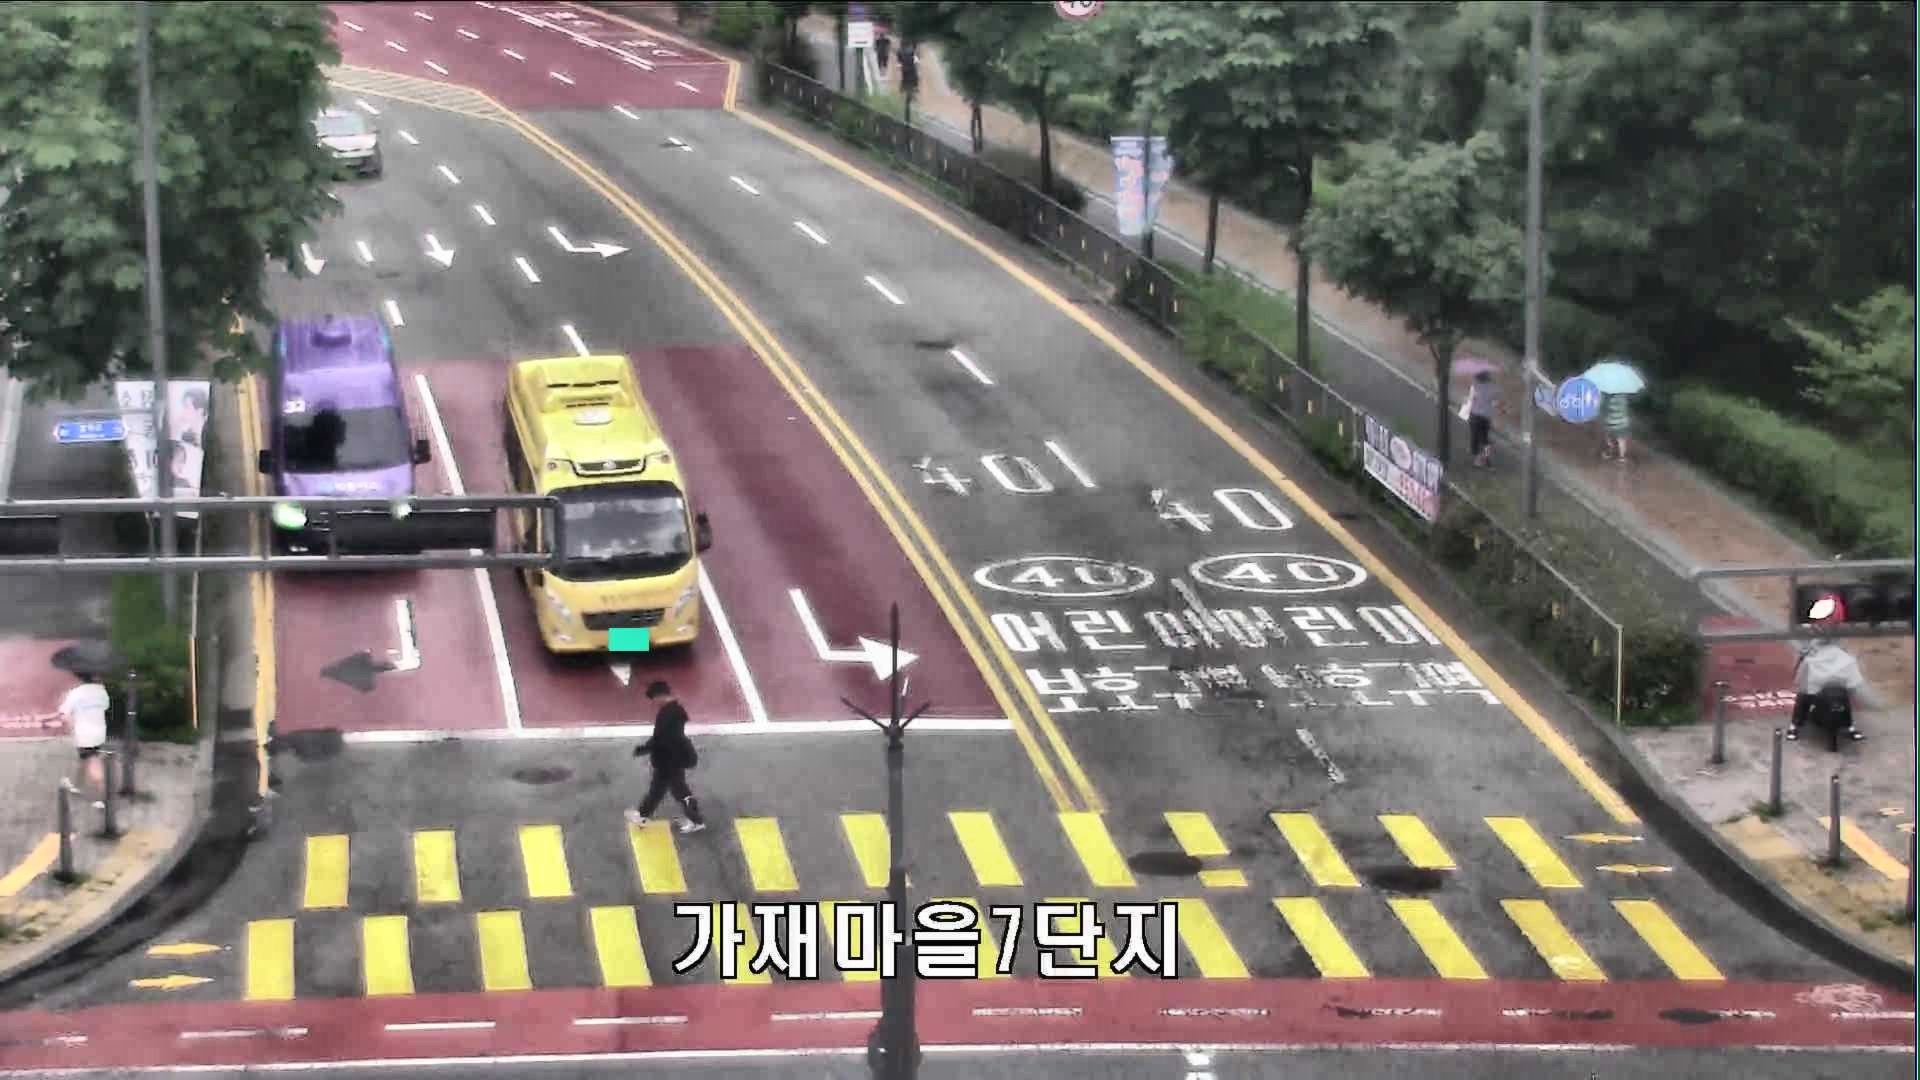crosswalk: (622, 680, 709, 836)
um_sidewalk: (46, 645, 128, 808), (1449, 357, 1505, 469), (1584, 361, 1644, 462), (862, 20, 893, 76)
